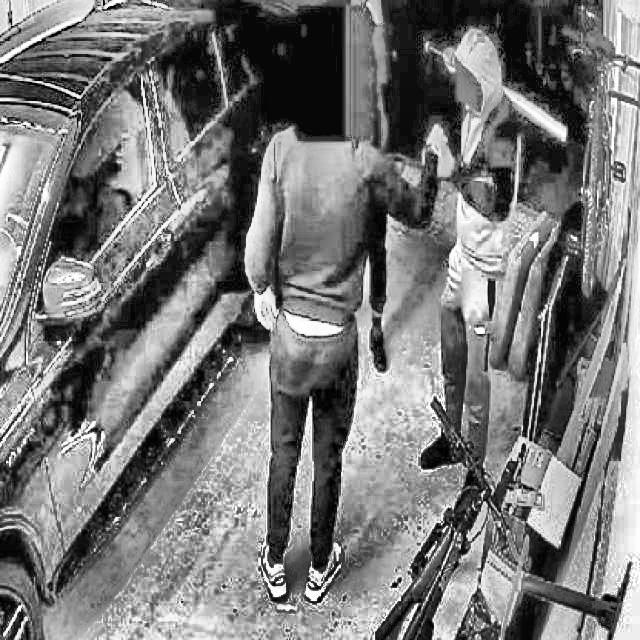robbery: (220, 0, 585, 617)
